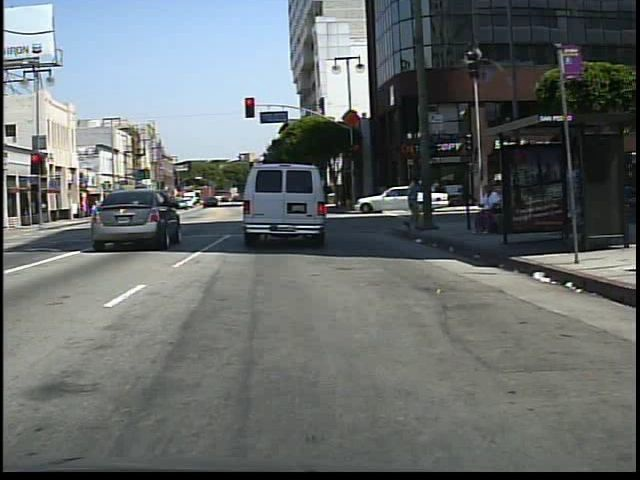person: (473, 181, 506, 237), (400, 172, 424, 233), (88, 193, 103, 220)
